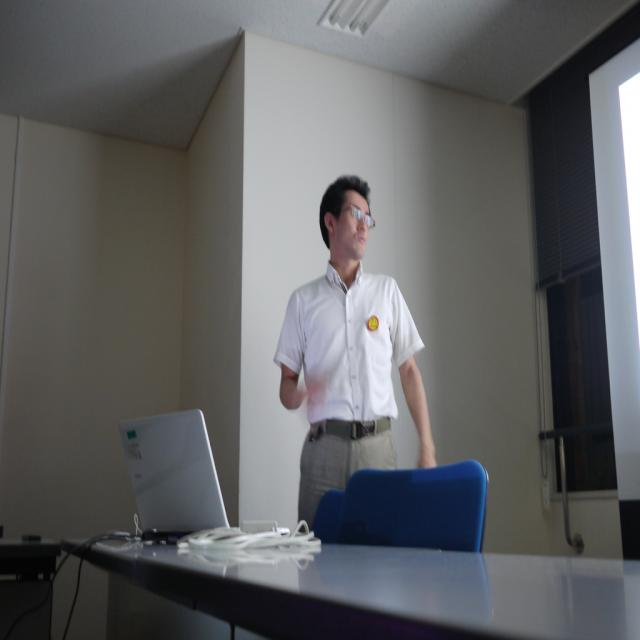chair: (332, 459, 488, 553)
desk: (62, 543, 640, 639)
laptop: (117, 408, 237, 542)
person: (273, 175, 438, 534)
